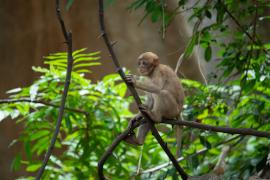monkey: (118, 48, 187, 152)
